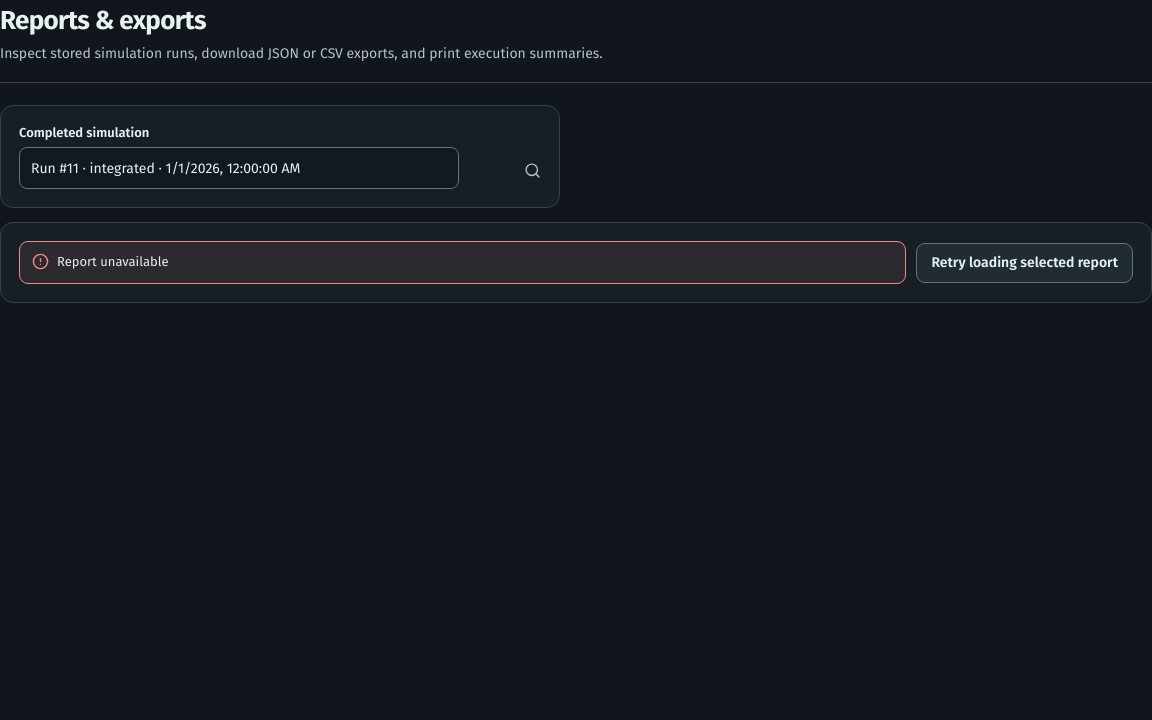
Test: Reports page › retries a failed selected report request without replacing it with an empty state
The width and height of the screenshot is (1152, 720).
Expected: the message reads "Report unavailable", [57,254,169,270]
Click the button "Retry loading selected report": (1025, 262) [916,242,1133,282]
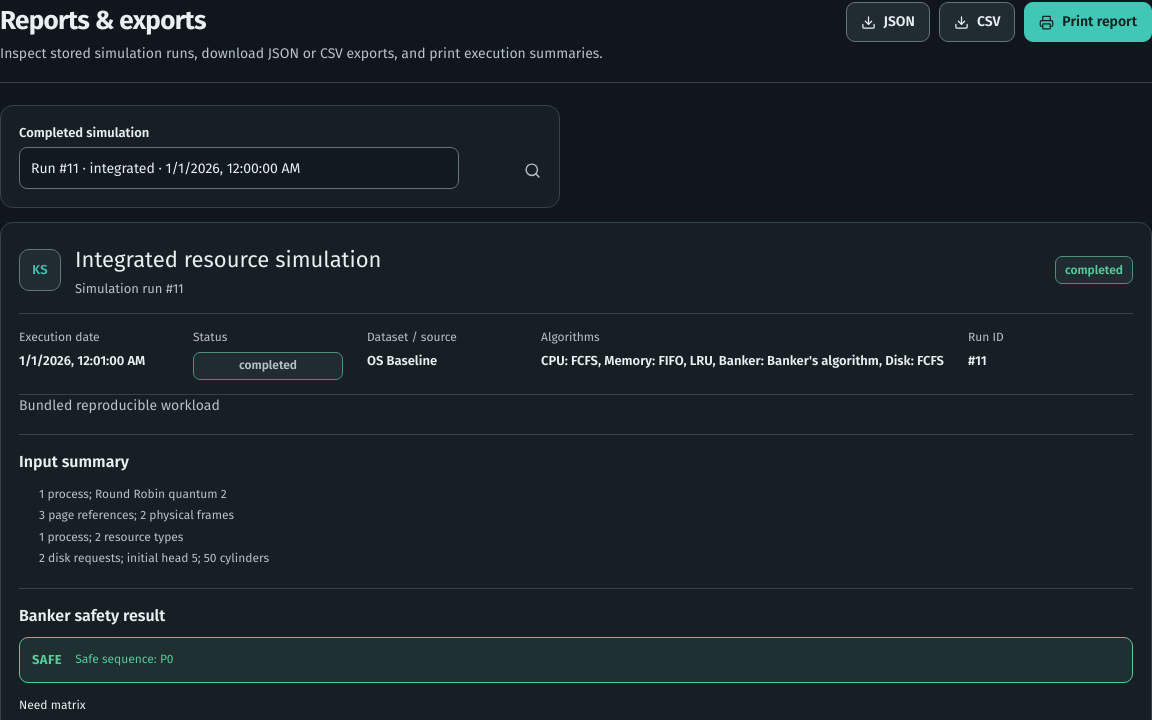
Expected: the heading "Integrated resource simulation" is shown, [75,246,382,274]
